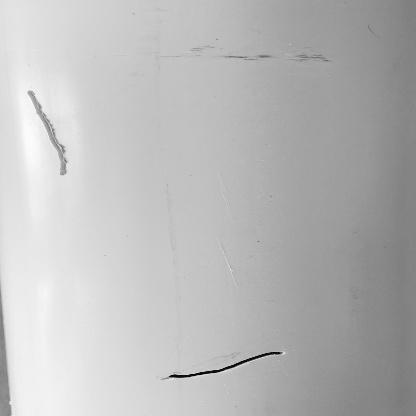fengxi: (166, 348, 286, 379)
sunshang: (25, 87, 71, 178)
